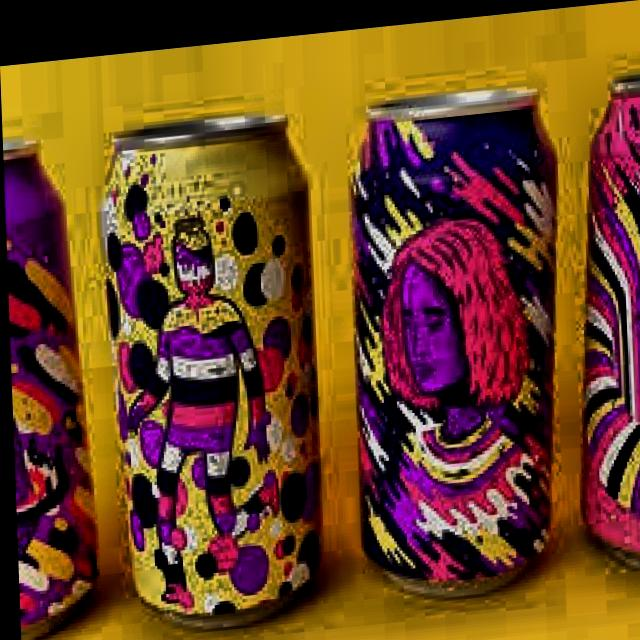can: (94, 83, 336, 640), (343, 59, 562, 616), (1, 98, 100, 638), (568, 54, 640, 595)
